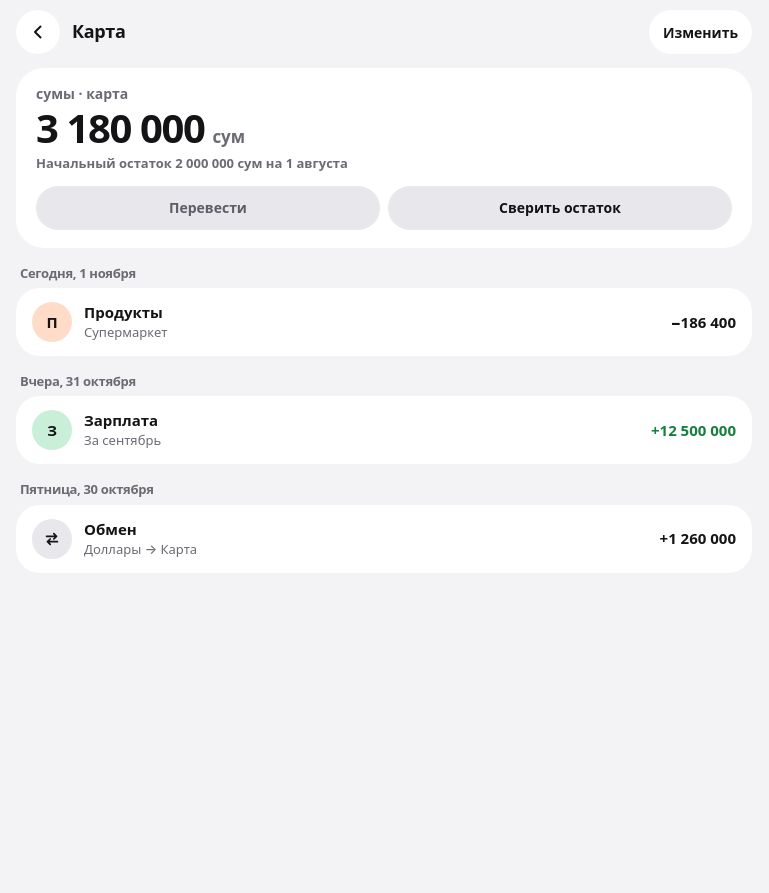
Test: Account screen › with one visible account «Перевести» says a second account is needed
Click the button "Перевести" at (208, 208), box left=36, top=186, right=380, bottom=230
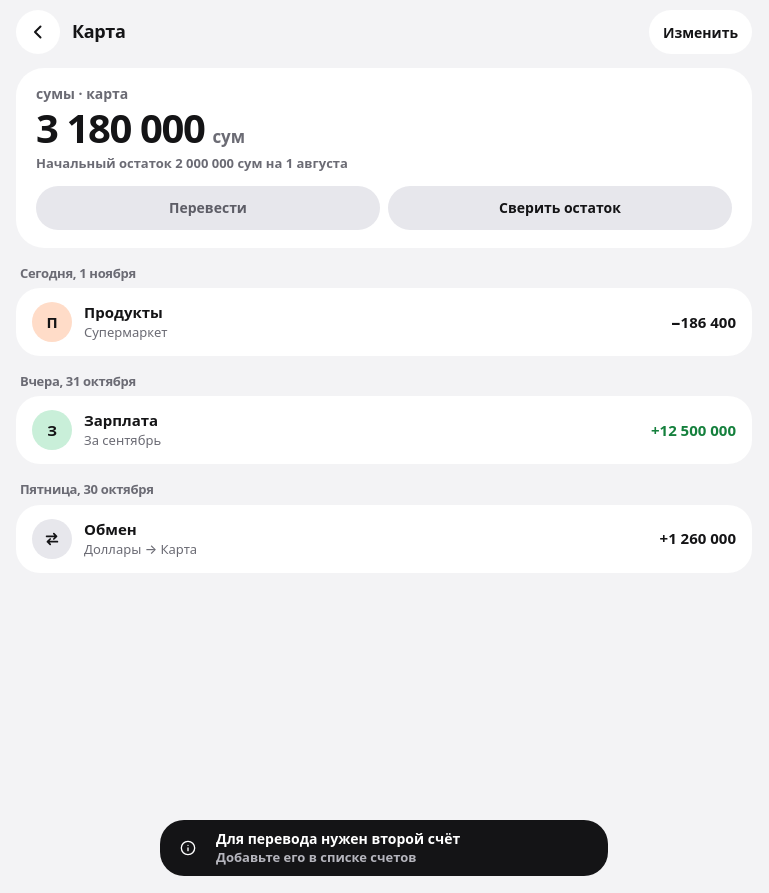
Check: the text "Для перевода нужен второй счёт" is shown, box left=216, top=829, right=460, bottom=848
